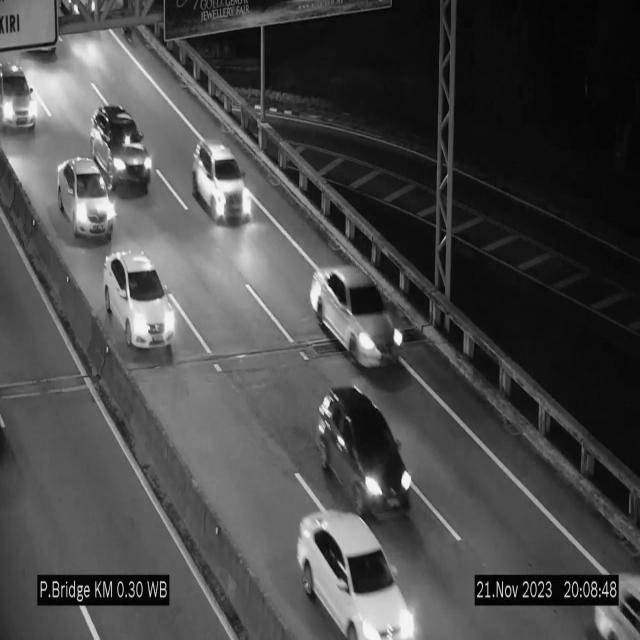Car: (297, 512, 418, 640), (315, 372, 417, 522), (311, 267, 405, 367), (103, 241, 176, 356), (90, 106, 154, 192), (58, 156, 114, 240), (589, 552, 640, 640), (192, 142, 246, 222), (0, 60, 45, 142)
